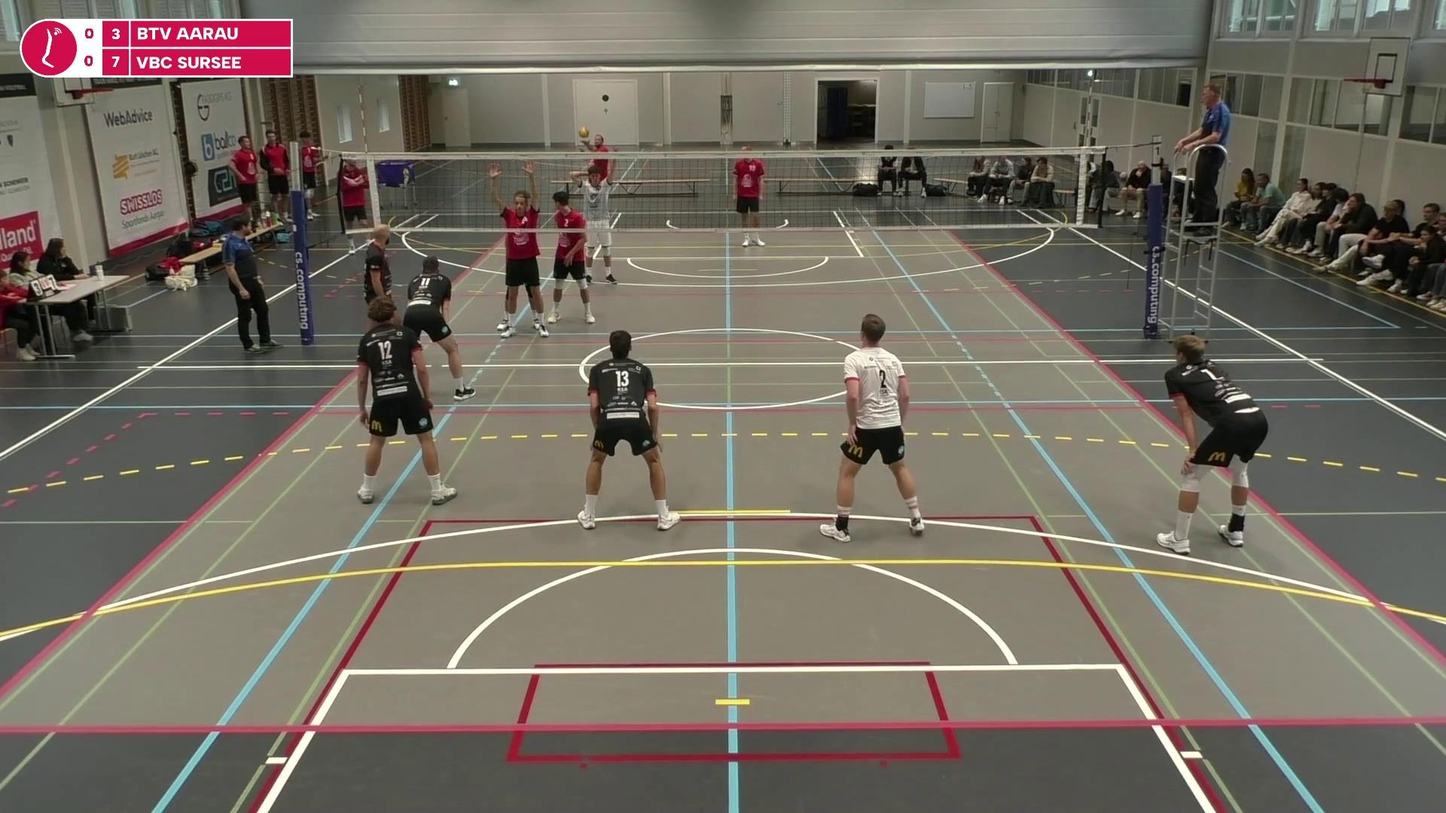battuta: (576, 123, 612, 227)
